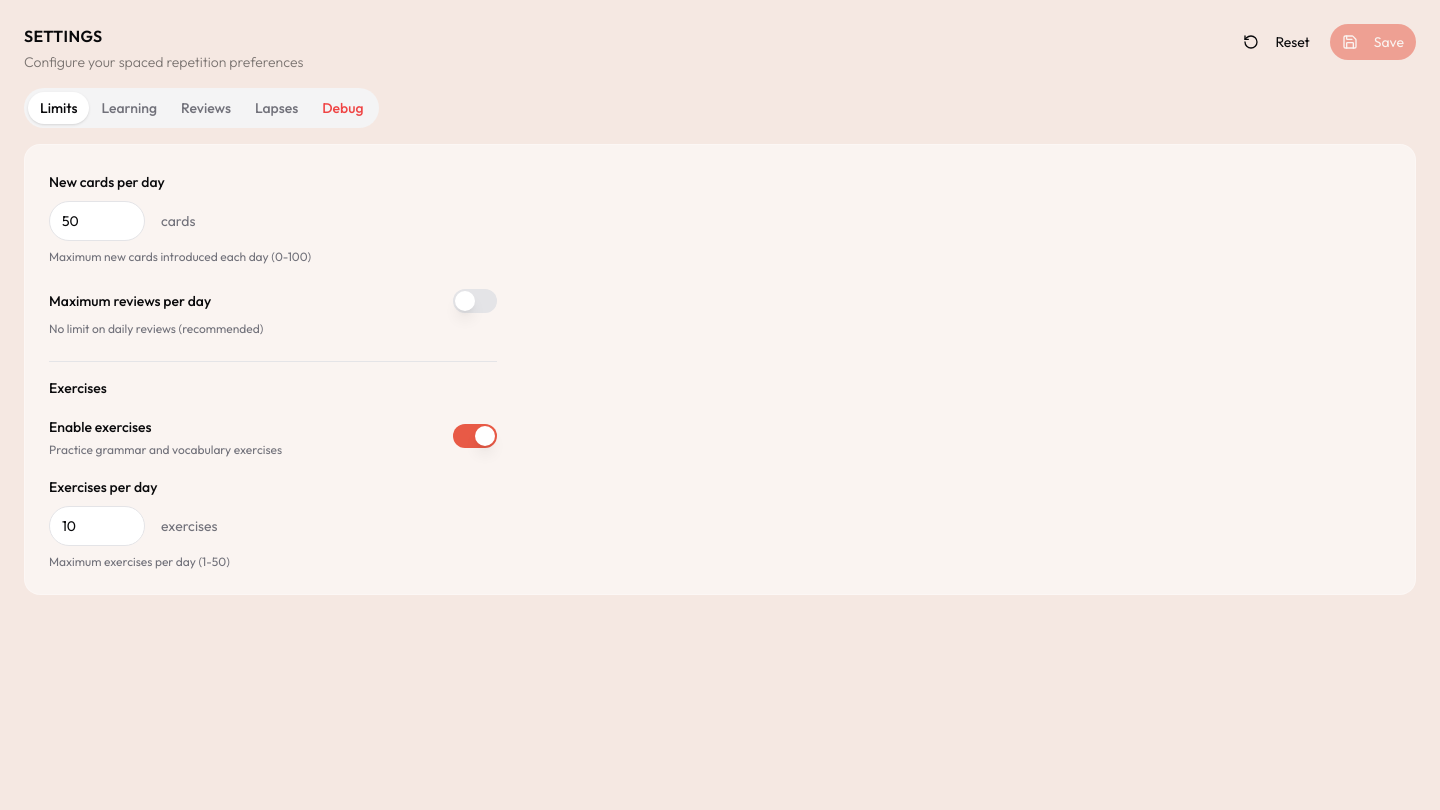
Test: SettingsPage › SRS settings › resets all settings to defaults when reset button is clicked
Expected: the number field labelled "New cards per day" holds "50", [49, 201, 145, 241]
Click the button "Reset".
click(1277, 42)  # box [1231, 24, 1322, 60]
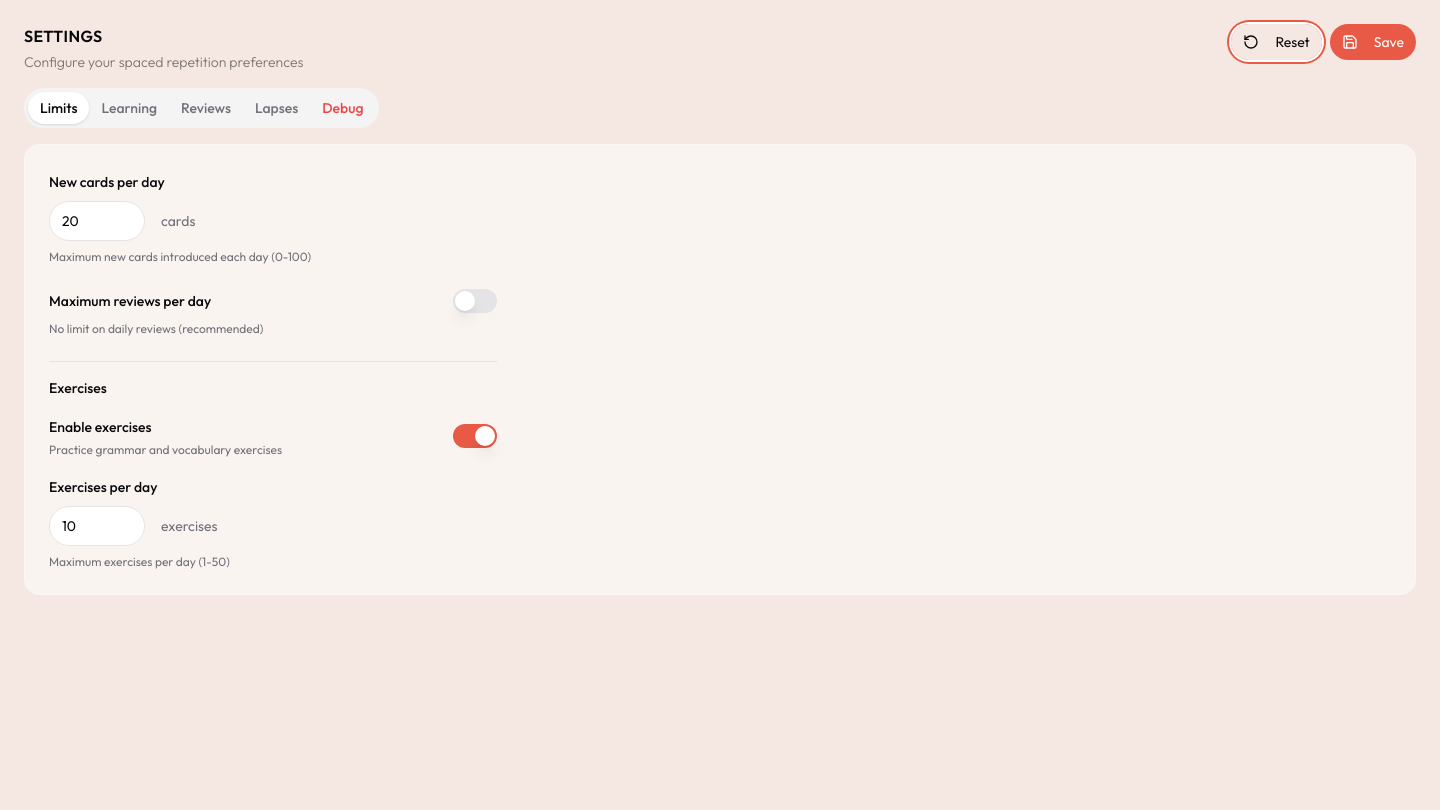
Expected: the number field labelled "New cards per day" holds "20", [49, 201, 145, 241]
Check Learning tab values
Click the tab "Learning".
click(129, 108)  # box [90, 92, 169, 124]
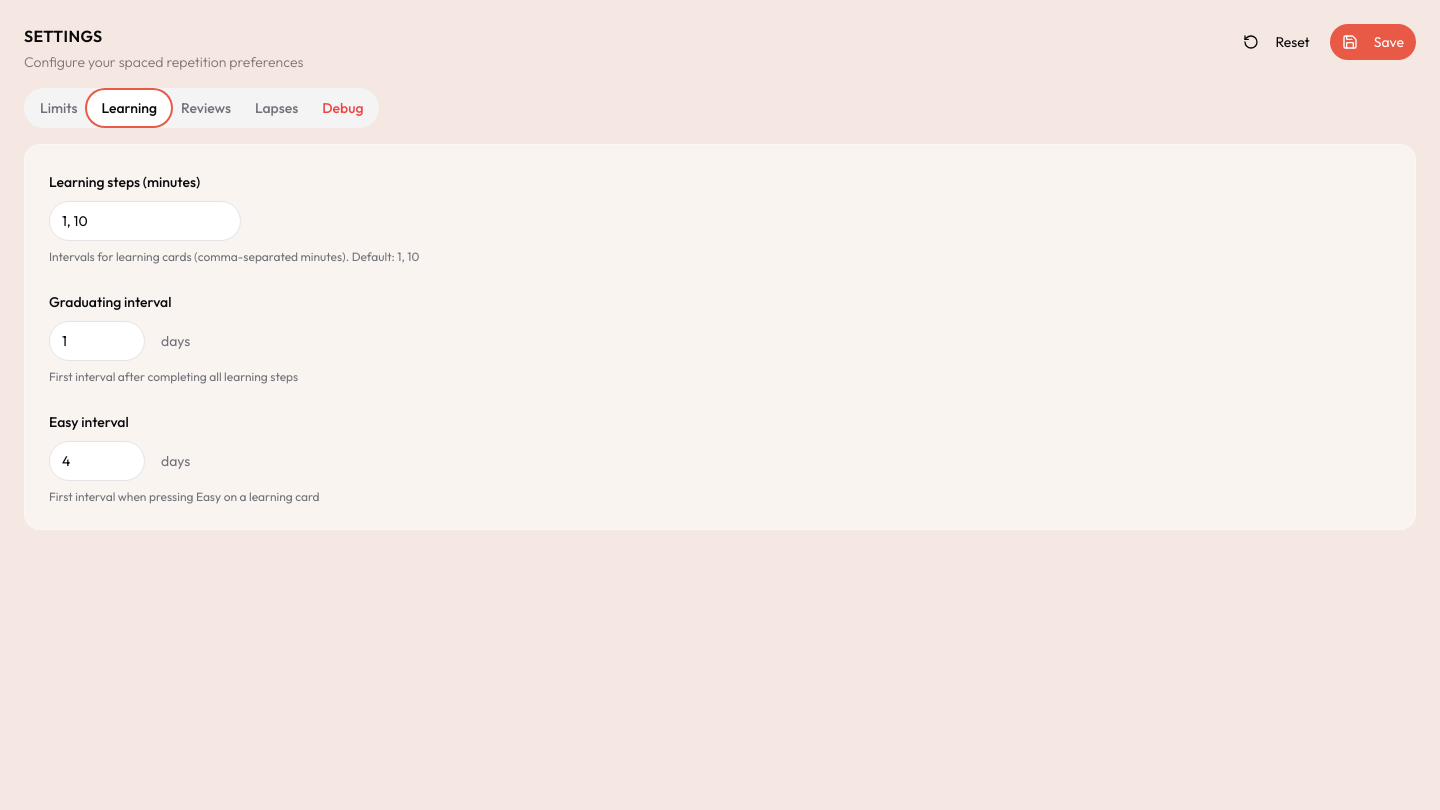
Expected: the number field with id "graduating-interval" holds "1", [49, 321, 145, 361]
Expected: the number field with id "easy-interval" holds "4", [49, 441, 145, 481]
Check Reviews tab values
Click the tab "Reviews".
click(206, 108)  # box [169, 92, 243, 124]
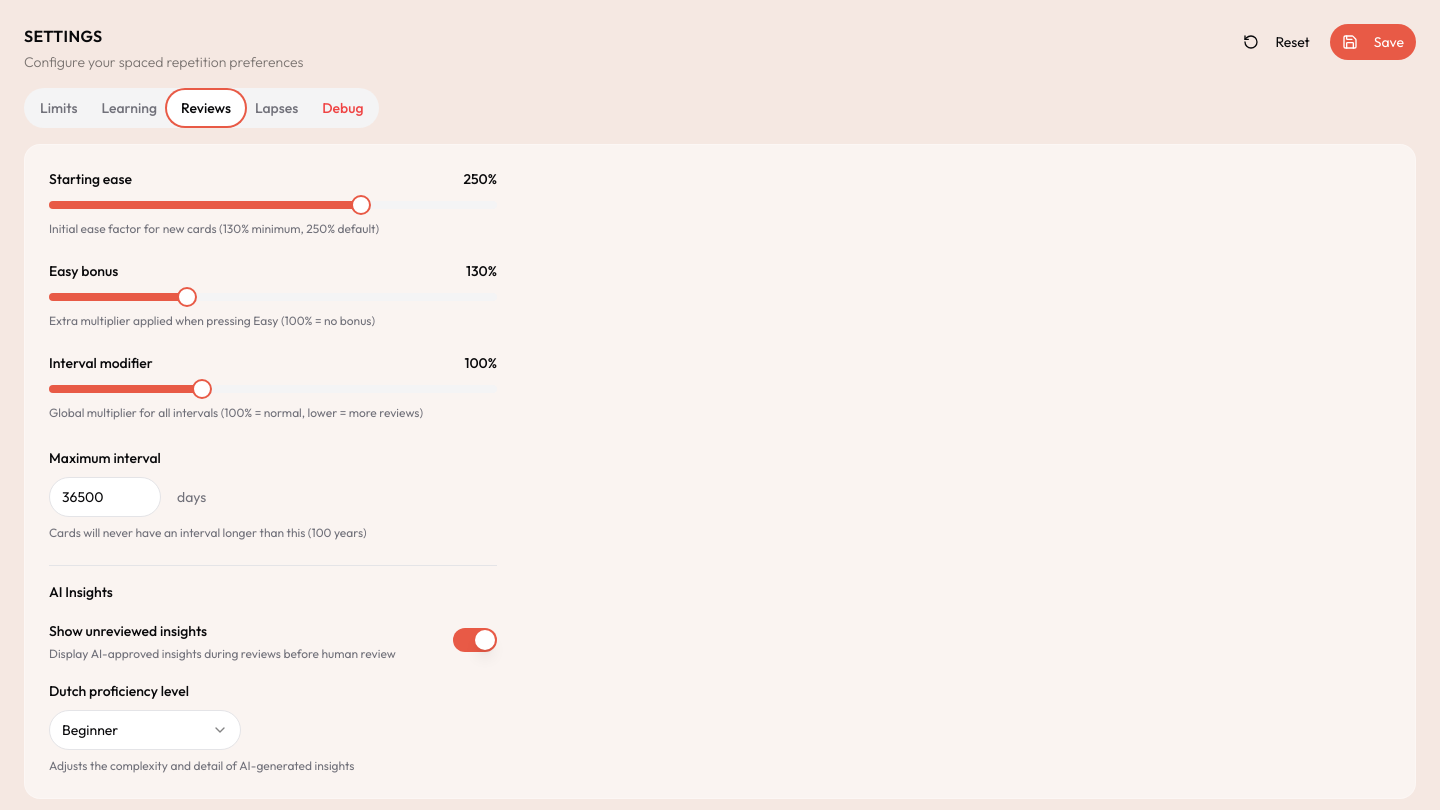
Expected: the text "250%" is shown, [463, 169, 497, 189]
